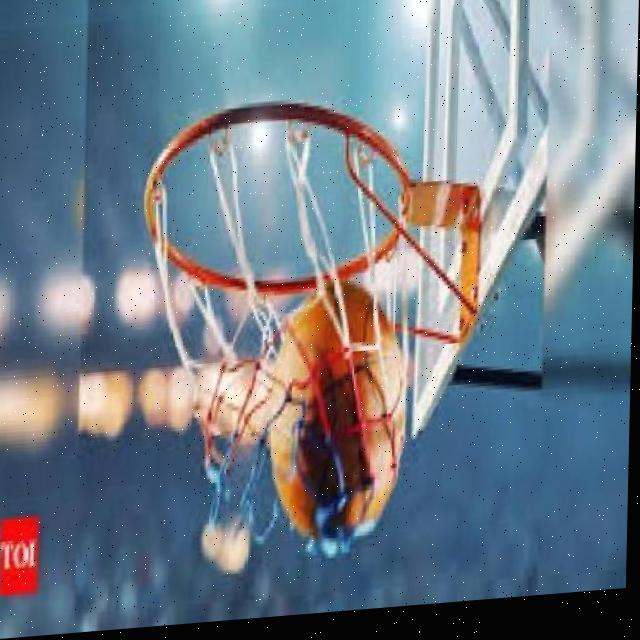Goal: (267, 280, 408, 540)
